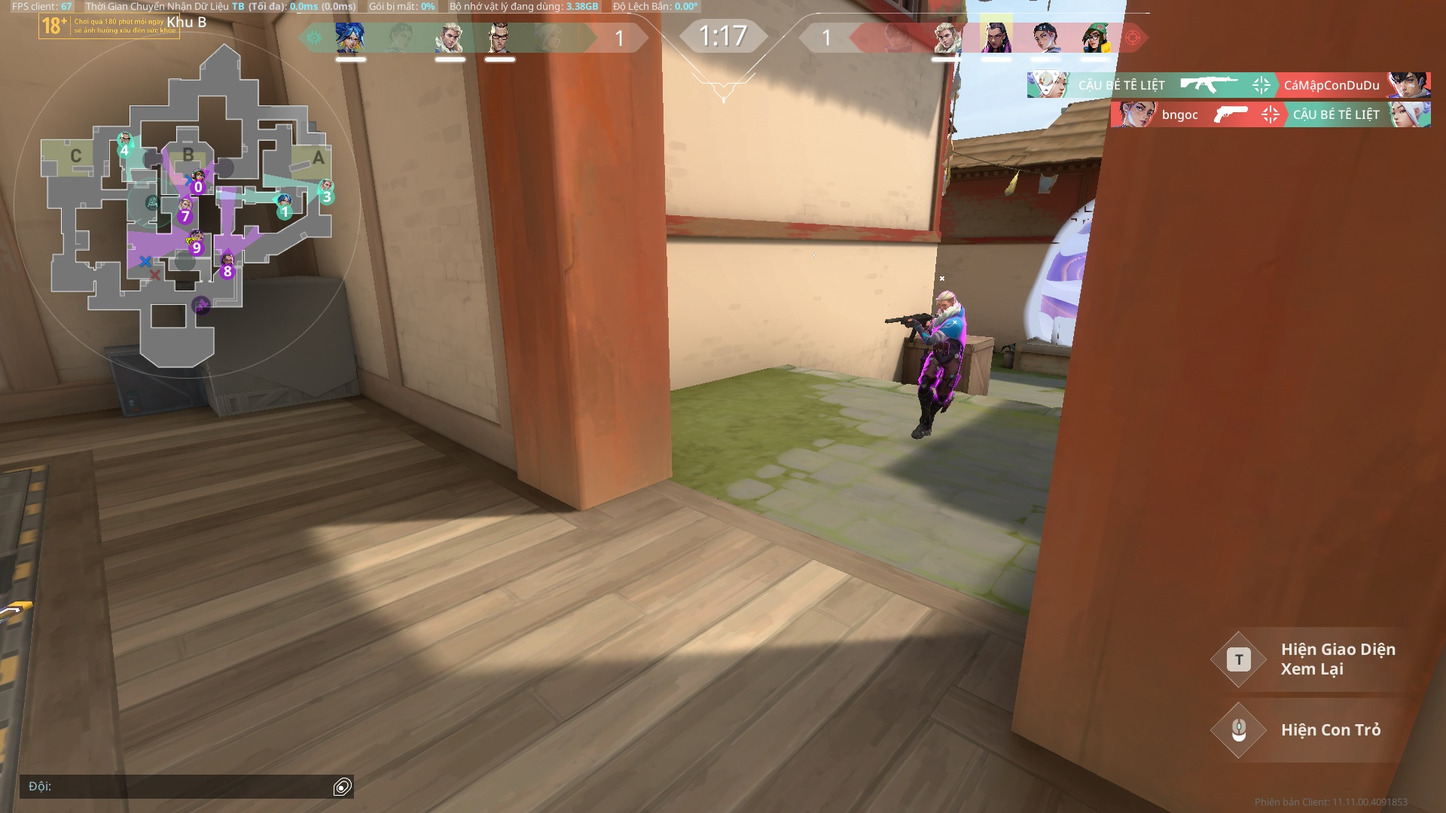body: (933, 306, 966, 349)
head: (935, 293, 957, 311)
